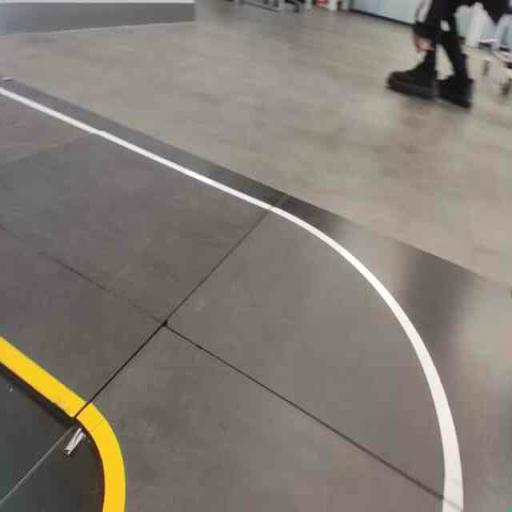left: (64, 196, 500, 511)
